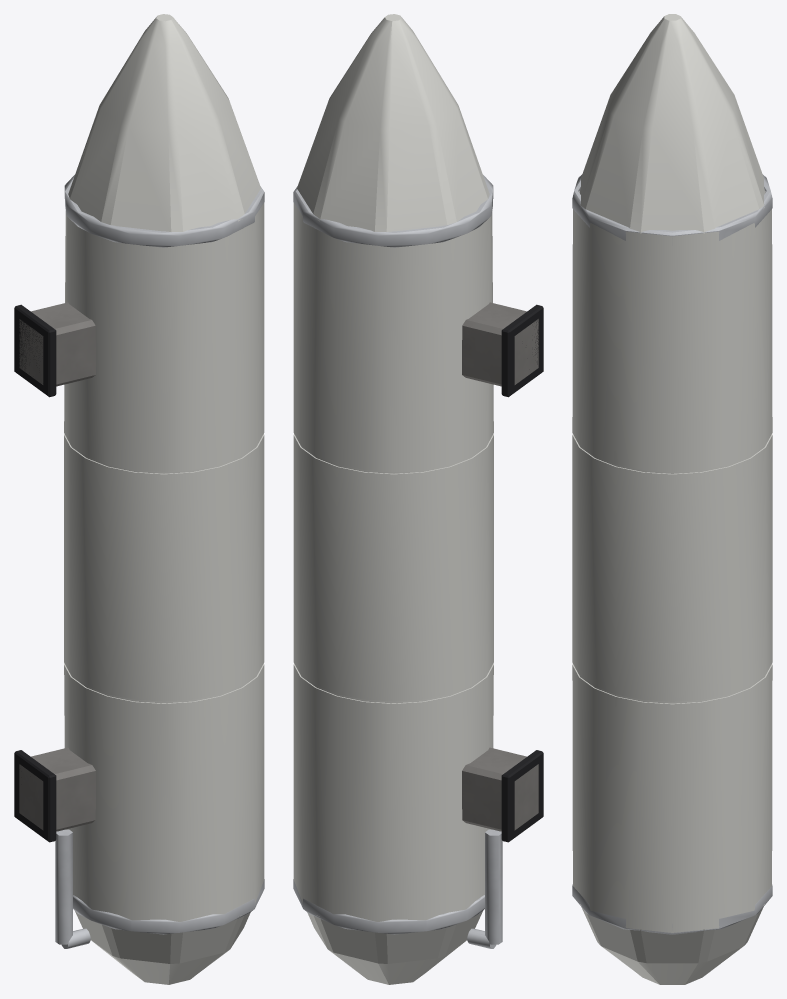
Rendered from ax_tank_09_radial_drop_s.glb.
3 views of the same model, side by side, from view 1: azimuth 30°, elevation 25°; view 2: azimuth 150°, elevation 25°; view 3: azimuth 270°, elevation 25° (orthographic).
Parts seen in each view (by area): view 1: tank_barrel, nose_cap, pylons, tail_cone, end_rings, separation_fittings, feed_line; view 2: tank_barrel, nose_cap, pylons, tail_cone, end_rings, separation_fittings, feed_line; view 3: tank_barrel, nose_cap, tail_cone, end_rings.
Part boxes in pixels (x1,y1,x2,y2): tank_barrel: [64, 203, 264, 921]; nose_cap: [68, 14, 260, 231]; pylons: [19, 302, 95, 831]; tail_cone: [75, 911, 250, 984]; end_rings: [64, 175, 264, 934]; separation_fittings: [14, 304, 56, 842]; feed_line: [55, 829, 90, 948]; tank_barrel: [293, 203, 493, 921]; nose_cap: [297, 14, 489, 231]; pylons: [462, 302, 538, 831]; tail_cone: [307, 911, 482, 984]; end_rings: [293, 175, 493, 934]; separation_fittings: [501, 304, 543, 842]; feed_line: [467, 829, 502, 948]; tank_barrel: [572, 191, 772, 932]; nose_cap: [580, 14, 764, 233]; tail_cone: [580, 904, 764, 984]; end_rings: [572, 174, 772, 934].
Bounding box in the file's own units: 1.59 × 6.58 × 1.25.
Materials: 4 (2 with a texture image).
